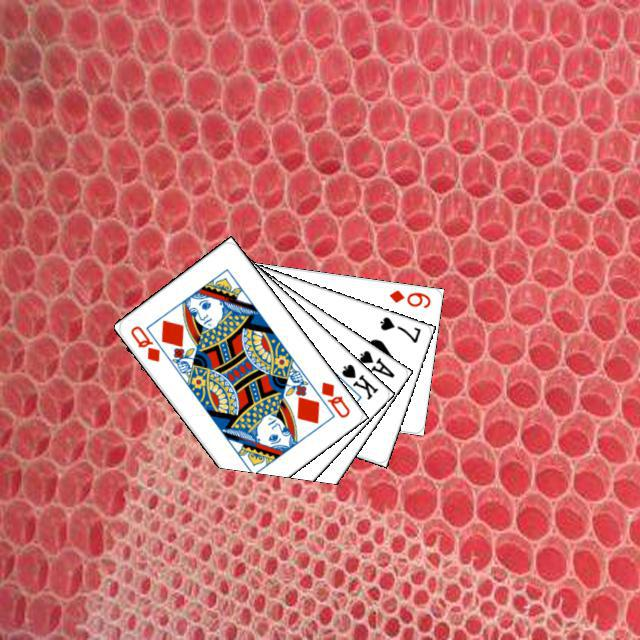6d: (384, 285, 432, 310)
7s: (375, 312, 422, 345)
As: (354, 345, 396, 380)
Ks: (336, 359, 380, 402)
Qd: (125, 321, 162, 363), (316, 377, 352, 420)
